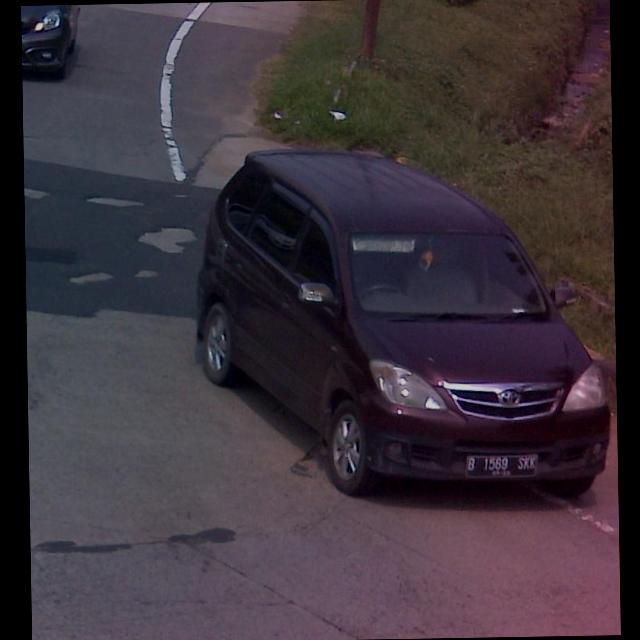plate: (466, 451, 538, 477)
